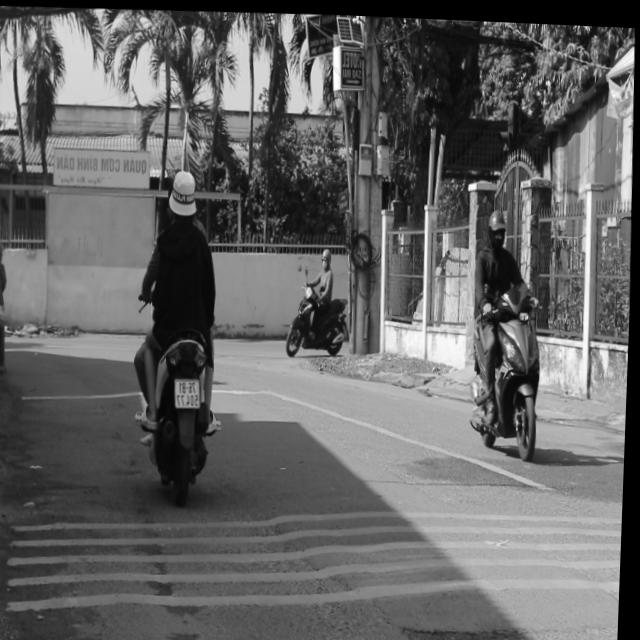helmet: (488, 204, 511, 243)
licenseplate: (128, 162, 236, 500), (466, 200, 553, 458)
motorcyclist: (167, 164, 200, 224)
nohelmet: (177, 375, 203, 406)
